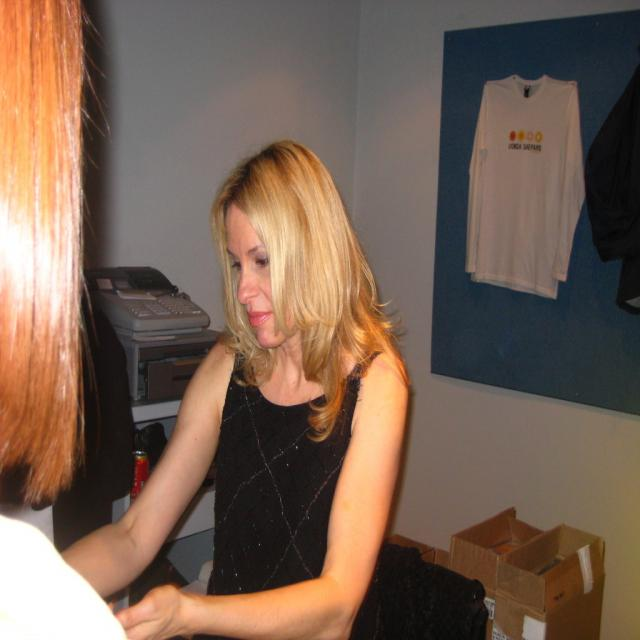Box: (492, 523, 603, 640), (453, 507, 544, 640), (384, 531, 432, 555), (423, 548, 452, 570)
